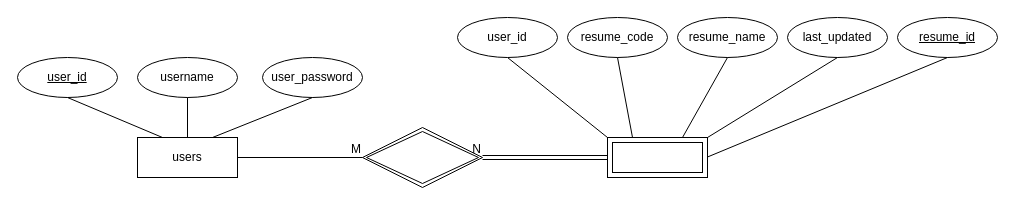
Image size: 1015x205. Some labels were removed from this diagram. The centre of each missing label's shape, as x and y in pixels:
CREATES: the point at 422,157
resumes: the point at 657,157
